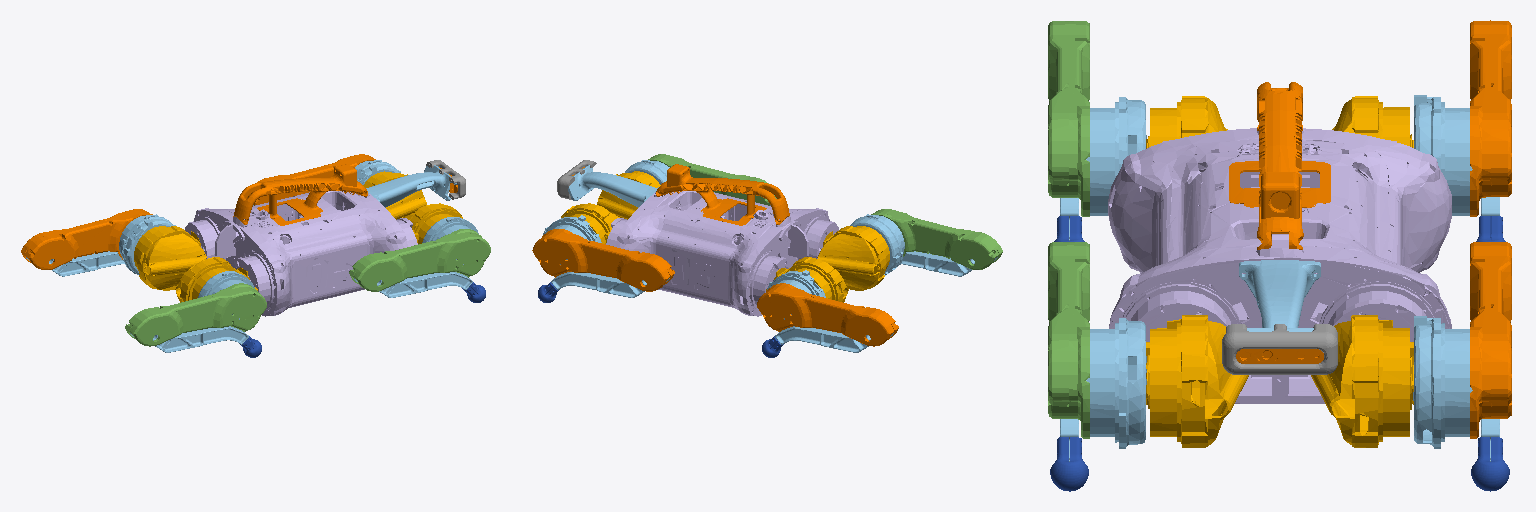
--- Render facts (derived) ---
Views: 3 orthographic renders of the robot side by side, from view 1: azimuth 30°, elevation 25°; view 2: azimuth 150°, elevation 25°; view 3: azimuth 270°, elevation 25°.
Model barkour_vb with 35 links and 34 joints (12 revolute, 22 fixed), rooted at torso_asm_1, posed every joint at zero.
Links seen in each view (by area): view 1: torso_asm_1, upper_leg_right_1, upper_leg_right_2, upper_leg_left_2, abduction_2, lower_leg_3, lower_leg_4, abduction_4, upper_leg_2, upper_leg_left_1, lower_leg_2, abduction_3 (+4 smaller); view 2: torso_asm_1, upper_leg_left_1, upper_leg_left_2, upper_leg_right_2, abduction_4, lower_leg_2, lower_leg_1, abduction_2, upper_leg_4, upper_leg_right_1, lower_leg_4, abduction_1 (+4 smaller); view 3: torso_asm_1, abduction_3, abduction_1, upper_leg_left_1, upper_leg_right_1, upper_leg_right_2, upper_leg_left_2, upper_leg_1, upper_leg_3, upper_leg_2, upper_leg_4, abduction_2 (+5 smaller).
Boxes of the visible links, x1=… form: torso_asm_1: x1=185, y1=160, x2=465, y2=316; upper_leg_right_1: x1=349, y1=229, x2=490, y2=291; upper_leg_right_2: x1=125, y1=283, x2=266, y2=346; upper_leg_left_2: x1=21, y1=209, x2=152, y2=269; abduction_2: x1=134, y1=226, x2=206, y2=290; lower_leg_3: x1=354, y1=272, x2=485, y2=302; lower_leg_4: x1=130, y1=326, x2=261, y2=357; abduction_4: x1=175, y1=257, x2=257, y2=302; upper_leg_2: x1=119, y1=214, x2=175, y2=274; upper_leg_left_1: x1=247, y1=154, x2=375, y2=205; lower_leg_2: x1=26, y1=251, x2=124, y2=276; abduction_3: x1=405, y1=203, x2=462, y2=243; torso_asm_1: x1=557, y1=160, x2=838, y2=316; upper_leg_left_1: x1=532, y1=229, x2=674, y2=291; upper_leg_left_2: x1=757, y1=283, x2=898, y2=346; upper_leg_right_2: x1=871, y1=209, x2=1002, y2=269; abduction_4: x1=817, y1=226, x2=889, y2=290; lower_leg_2: x1=762, y1=326, x2=893, y2=357; lower_leg_1: x1=538, y1=272, x2=669, y2=302; abduction_2: x1=766, y1=257, x2=848, y2=302; upper_leg_4: x1=850, y1=214, x2=904, y2=275; upper_leg_right_1: x1=648, y1=154, x2=776, y2=205; lower_leg_4: x1=901, y1=251, x2=997, y2=276; abduction_1: x1=561, y1=203, x2=619, y2=243; torso_asm_1: x1=1108, y1=82, x2=1451, y2=403; abduction_3: x1=1146, y1=315, x2=1248, y2=447; abduction_1: x1=1311, y1=315, x2=1413, y2=447; upper_leg_left_1: x1=1470, y1=242, x2=1511, y2=438; upper_leg_right_1: x1=1048, y1=242, x2=1089, y2=438; upper_leg_right_2: x1=1048, y1=21, x2=1089, y2=216; upper_leg_left_2: x1=1470, y1=20, x2=1511, y2=216; upper_leg_1: x1=1413, y1=316, x2=1472, y2=448; upper_leg_3: x1=1086, y1=318, x2=1146, y2=448; upper_leg_2: x1=1414, y1=95, x2=1472, y2=215; upper_leg_4: x1=1086, y1=97, x2=1146, y2=215; abduction_2: x1=1332, y1=96, x2=1413, y2=147.
Size in the robot's own frame: 0.798 by 0.4192 by 0.2409 metres.
Meshes: 11 distinct files referenced, 25 mesh visuals loaded (11 binary STL).

robot.urdf — barkour_vb:
<?xml version="1.0"?>
<robot name="barkour_vb">
  <link name="torso_asm_1">
    <inertial>
      <mass value="6.0435187992921655"/>
      <origin xyz="0.005523803494648026 -3.54562665913517e-4 0.008358992027777457" rpy="0 -0 0"/>
      <inertia ixx="0.05125030564288343" ixy="-1.2309385414172502e-4" ixz="-0.0031995036900812944" iyy="0.12027011393337123" iyz="-6.389885553167508e-5" izz="0.1445542994133994"/>
    </inertial>
    <visual name="mesh_visual_torso_asm_1_neck_1">
      <origin xyz="-7.851268126597352e-5 -5.007337028185305e-4 5.551115123125783e-17" rpy="-1.1591837685679553e-25 -7.068193710780266e-27 9.138164726094376e-27"/>
      <geometry>
        <mesh filename="package://assets/neck.stl" scale="1 1 1"/>
      </geometry>
      <material name="material_torso_asm_1_neck_1">
        <color rgba="0.615686274509804 0.8117647058823529 0.9294117647058824 1"/>
      </material>
    </visual>
    <visual name="mesh_visual_torso_asm_1_camera_cover_1">
      <origin xyz="-7.851268126597352e-5 -5.007337028185305e-4 5.551115123125783e-17" rpy="-1.1591837685679553e-25 -7.068193710780266e-27 9.138164726094376e-27"/>
      <geometry>
        <mesh filename="package://assets/camera_cover.stl" scale="1 1 1"/>
      </geometry>
      <material name="material_torso_asm_1_camera_cover_1">
        <color rgba="0.6470588235294118 0.6470588235294118 0.6470588235294118 1"/>
      </material>
    </visual>
    <visual name="mesh_visual_torso_asm_1_handle_1">
      <origin xyz="-7.851268126597352e-5 -5.007337028185305e-4 5.551115123125783e-17" rpy="-1.1591837685679553e-25 -7.068193710780266e-27 9.138164726094376e-27"/>
      <geometry>
        <mesh filename="package://assets/handle.stl" scale="1 1 1"/>
      </geometry>
      <material name="material_torso_asm_1_handle_1">
        <color rgba="0.9725490196078431 0.5294117647058824 0.00392156862745098 1"/>
      </material>
    </visual>
    <visual name="mesh_visual_torso_asm_1_intel_realsense_depth_camera_d435_1">
      <origin xyz="0.3199214873187563 -5.00733702828467e-4 0.06512479372904838" rpy="-7.169167906648349e-27 1.1591837685679884e-25 1.5707963267948966"/>
      <geometry>
        <mesh filename="package://assets/intel_realsense_depth_camera_d435.stl" scale="1 1 1"/>
      </geometry>
      <material name="material_torso_asm_1_intel_realsense_depth_camera_d435_1">
        <color rgba="0.9725490196078431 0.5294117647058824 0.00392156862745098 1"/>
      </material>
    </visual>
    <visual name="mesh_visual_torso_asm_1_torso_1">
      <origin xyz="-7.851268126600128e-5 -5.007337028184195e-4 5.551115123125783e-17" rpy="-1.1591837685679553e-25 -7.068193710780266e-27 9.138164726094376e-27"/>
      <geometry>
        <mesh filename="package://assets/torso.stl" scale="1 1 1"/>
      </geometry>
      <material name="material_torso_asm_1_torso_1">
        <color rgba="0.8 0.7490196078431373 0.9137254901960784 1"/>
      </material>
    </visual>
    <collision name="mesh_collision_torso_asm_1_neck_1">
      <origin xyz="-7.851268126597352e-5 -5.007337028185305e-4 5.551115123125783e-17" rpy="-1.1591837685679553e-25 -7.068193710780266e-27 9.138164726094376e-27"/>
      <geometry>
        <mesh filename="package://assets/neck.stl" scale="1 1 1"/>
      </geometry>
      <material name="material_torso_asm_1_neck_1">
        <color rgba="0.615686274509804 0.8117647058823529 0.9294117647058824 1"/>
      </material>
    </collision>
    <collision name="mesh_collision_torso_asm_1_camera_cover_1">
      <origin xyz="-7.851268126597352e-5 -5.007337028185305e-4 5.551115123125783e-17" rpy="-1.1591837685679553e-25 -7.068193710780266e-27 9.138164726094376e-27"/>
      <geometry>
        <mesh filename="package://assets/camera_cover.stl" scale="1 1 1"/>
      </geometry>
      <material name="material_torso_asm_1_camera_cover_1">
        <color rgba="0.6470588235294118 0.6470588235294118 0.6470588235294118 1"/>
      </material>
    </collision>
    <collision name="mesh_collision_torso_asm_1_handle_1">
      <origin xyz="-7.851268126597352e-5 -5.007337028185305e-4 5.551115123125783e-17" rpy="-1.1591837685679553e-25 -7.068193710780266e-27 9.138164726094376e-27"/>
      <geometry>
        <mesh filename="package://assets/handle.stl" scale="1 1 1"/>
      </geometry>
      <material name="material_torso_asm_1_handle_1">
        <color rgba="0.9725490196078431 0.5294117647058824 0.00392156862745098 1"/>
      </material>
    </collision>
    <collision name="mesh_collision_torso_asm_1_intel_realsense_depth_camera_d435_1">
      <origin xyz="0.3199214873187563 -5.00733702828467e-4 0.06512479372904838" rpy="-7.169167906648349e-27 1.1591837685679884e-25 1.5707963267948966"/>
      <geometry>
        <mesh filename="package://assets/intel_realsense_depth_camera_d435.stl" scale="1 1 1"/>
      </geometry>
      <material name="material_torso_asm_1_intel_realsense_depth_camera_d435_1">
        <color rgba="0.9725490196078431 0.5294117647058824 0.00392156862745098 1"/>
      </material>
    </collision>
    <collision name="mesh_collision_torso_asm_1_torso_1">
      <origin xyz="-7.851268126600128e-5 -5.007337028184195e-4 5.551115123125783e-17" rpy="-1.1591837685679553e-25 -7.068193710780266e-27 9.138164726094376e-27"/>
      <geometry>
        <mesh filename="package://assets/torso.stl" scale="1 1 1"/>
      </geometry>
      <material name="material_torso_asm_1_torso_1">
        <color rgba="0.8 0.7490196078431373 0.9137254901960784 1"/>
      </material>
    </collision>
  </link>
  <joint name="abduction_front_left" type="revolute">
    <origin xyz="0.171671487318734 0.08924926629717829 -9.80000000315705e-6" rpy="-1.570796326794818 -3.399112597086179e-27 1.5707963267949399"/>
    <axis xyz="2.672703018845418e-40 0 1"/>
    <parent link="torso_asm_1"/>
    <child link="abduction_1"/>
    <limit lower="-1.0471975511965976" upper="1.0471975511965976" effort="1e+9" velocity="1e+9"/>
  </joint>
  <link name="abduction_1">
    <inertial>
      <mass value="0.7870000000000004"/>
      <origin xyz="0.005477257952806026 -2.880342934476473e-4 -0.06021907612587555" rpy="0 -0 0"/>
      <inertia ixx="0.0014379326033092518" ixy="-1.9263529901593276e-6" ixz="1.258009598205964e-5" iyy="0.001170167935614302" iyz="3.463780265707665e-6" izz="0.0010005419149179914"/>
    </inertial>
    <visual name="mesh_visual_abduction_1_abduction_1">
      <origin xyz="5.83993472149866e-18 1.1137316600633152e-4 0.002900000000000005" rpy="1.5707963267948966 -3.78951442209809e-16 0"/>
      <geometry>
        <mesh filename="package://assets/abduction.stl" scale="1 1 1"/>
      </geometry>
      <material name="material_abduction_1_abduction_1">
        <color rgba="0.9803921568627451 0.7137254901960784 0.00392156862745098 1"/>
      </material>
    </visual>
    <collision name="mesh_collision_abduction_1_abduction_1">
      <origin xyz="5.83993472149866e-18 1.1137316600633152e-4 0.002900000000000005" rpy="1.5707963267948966 -3.78951442209809e-16 0"/>
      <geometry>
        <mesh filename="package://assets/abduction.stl" scale="1 1 1"/>
      </geometry>
      <material name="material_abduction_1_abduction_1">
        <color rgba="0.9803921568627451 0.7137254901960784 0.00392156862745098 1"/>
      </material>
    </collision>
  </link>
  <joint name="abduction_hind_left" type="revolute">
    <origin xyz="-0.17182851268126573 0.08924926629718143 -9.799999998367492e-6" rpy="-1.5707963267948988 -5.775159592936519e-29 1.570796326794869"/>
    <axis xyz="-1.2098169819453001e-43 0 1"/>
    <parent link="torso_asm_1"/>
    <child link="abduction_2"/>
    <limit lower="-1.0471975511965976" upper="1.0471975511965976" effort="1e+9" velocity="1e+9"/>
  </joint>
  <link name="abduction_2">
    <inertial>
      <mass value="0.7870000000000004"/>
      <origin xyz="0.005477257952806026 2.880342934476473e-4 0.06021907612587555" rpy="0 -0 0"/>
      <inertia ixx="0.0014379326033092518" ixy="1.9263529901593276e-6" ixz="-1.258009598205964e-5" iyy="0.001170167935614302" iyz="3.463780265707665e-6" izz="0.0010005419149179914"/>
    </inertial>
    <visual name="mesh_visual_abduction_2_abduction_2">
      <origin xyz="5.83993472149866e-18 -1.1137316600633152e-4 -0.002900000000000005" rpy="-1.5707963267948968 3.78951442209809e-16 0"/>
      <geometry>
        <mesh filename="package://assets/abduction.stl" scale="1 1 1"/>
      </geometry>
      <material name="material_abduction_2_abduction_2">
        <color rgba="0.9803921568627451 0.7137254901960784 0.00392156862745098 1"/>
      </material>
    </visual>
    <collision name="mesh_collision_abduction_2_abduction_2">
      <origin xyz="5.83993472149866e-18 -1.1137316600633152e-4 -0.002900000000000005" rpy="-1.5707963267948968 3.78951442209809e-16 0"/>
      <geometry>
        <mesh filename="package://assets/abduction.stl" scale="1 1 1"/>
      </geometry>
      <material name="material_abduction_2_abduction_2">
        <color rgba="0.9803921568627451 0.7137254901960784 0.00392156862745098 1"/>
      </material>
    </collision>
  </link>
  <joint name="abduction_front_right" type="revolute">
    <origin xyz="0.17167148731873405 -0.09075073370281865 -9.79999999449241e-6" rpy="-1.5707963267948195 3.522303502572385e-27 -1.5707963267949423"/>
    <axis xyz="-2.71461045742394e-40 0 1"/>
    <parent link="torso_asm_1"/>
    <child link="abduction_3"/>
    <limit lower="-1.0471975511965976" upper="1.0471975511965976" effort="1e+9" velocity="1e+9"/>
  </joint>
  <link name="abduction_3">
    <inertial>
      <mass value="0.7870000000000004"/>
      <origin xyz="0.005477257952806026 2.880342934476473e-4 0.06021907612587555" rpy="0 -0 0"/>
      <inertia ixx="0.0014379326033092518" ixy="1.9263529901593276e-6" ixz="-1.258009598205964e-5" iyy="0.001170167935614302" iyz="3.463780265707665e-6" izz="0.0010005419149179914"/>
    </inertial>
    <visual name="mesh_visual_abduction_3_abduction_3">
      <origin xyz="5.83993472149866e-18 -1.1137316600633152e-4 -0.002900000000000005" rpy="-1.5707963267948968 3.78951442209809e-16 0"/>
      <geometry>
        <mesh filename="package://assets/abduction.stl" scale="1 1 1"/>
      </geometry>
      <material name="material_abduction_3_abduction_3">
        <color rgba="0.9803921568627451 0.7137254901960784 0.00392156862745098 1"/>
      </material>
    </visual>
    <collision name="mesh_collision_abduction_3_abduction_3">
      <origin xyz="5.83993472149866e-18 -1.1137316600633152e-4 -0.002900000000000005" rpy="-1.5707963267948968 3.78951442209809e-16 0"/>
      <geometry>
        <mesh filename="package://assets/abduction.stl" scale="1 1 1"/>
      </geometry>
      <material name="material_abduction_3_abduction_3">
        <color rgba="0.9803921568627451 0.7137254901960784 0.00392156862745098 1"/>
      </material>
    </collision>
  </link>
  <joint name="abduction_hind_right" type="revolute">
    <origin xyz="-0.17182851268126592 -0.09075073370281862 -9.800000003691252e-6" rpy="-1.5707963267948255 -2.639992626226621e-27 -1.5707963267948595"/>
    <axis xyz="1.8745546754473815e-40 0 1"/>
    <parent link="torso_asm_1"/>
    <child link="abduction_4"/>
    <limit lower="-1.0471975511965976" upper="1.0471975511965976" effort="1e+9" velocity="1e+9"/>
  </joint>
  <link name="abduction_4">
    <inertial>
      <mass value="0.7870000000000004"/>
      <origin xyz="0.005477257952806026 -2.880342934476473e-4 -0.06001907612587555" rpy="0 -0 0"/>
      <inertia ixx="0.0014379326033092518" ixy="-1.9263529901593276e-6" ixz="1.258009598205964e-5" iyy="0.0011701679356143023" iyz="3.463780265707665e-6" izz="0.0010005419149179914"/>
    </inertial>
    <visual name="mesh_visual_abduction_4_abduction_4">
      <origin xyz="5.764144433056697e-18 1.1137316600633152e-4 0.0031000000000000073" rpy="1.5707963267948966 -3.78951442209809e-16 0"/>
      <geometry>
        <mesh filename="package://assets/abduction.stl" scale="1 1 1"/>
      </geometry>
      <material name="material_abduction_4_abduction_4">
        <color rgba="0.9803921568627451 0.7137254901960784 0.00392156862745098 1"/>
      </material>
    </visual>
    <collision name="mesh_collision_abduction_4_abduction_4">
      <origin xyz="5.764144433056697e-18 1.1137316600633152e-4 0.0031000000000000073" rpy="1.5707963267948966 -3.78951442209809e-16 0"/>
      <geometry>
        <mesh filename="package://assets/abduction.stl" scale="1 1 1"/>
      </geometry>
      <material name="material_abduction_4_abduction_4">
        <color rgba="0.9803921568627451 0.7137254901960784 0.00392156862745098 1"/>
      </material>
    </collision>
  </link>
  <joint name="hip_hind_right" type="revolute">
    <origin xyz="0.030849999999999947 -9.934002405398434e-18 -0.06480000000000001" rpy="0 -1.5707963267948966 3.141592653589791"/>
    <axis xyz="0 2.3352054777656043e-31 1"/>
    <parent link="abduction_4"/>
    <child link="upper_leg_4"/>
    <limit lower="-1.5470598489677738" upper="3.029018916836159" effort="1e+9" velocity="1e+9"/>
  </joint>
  <link name="upper_leg_4">
    <inertial>
      <mass value="0.825"/>
      <origin xyz="-2.6386651911913805e-4 -5.445989762948878e-4 0.035395424597901" rpy="0 -0 0"/>
      <inertia ixx="8.52398289651261e-4" ixy="2.4616395855082435e-7" ixz="-4.6651751688711196e-6" iyy="8.405258907741872e-4" iyz="-6.967907262754442e-6" izz="0.0013010489365589857"/>
    </inertial>
    <visual name="mesh_visual_upper_leg_4_upper_leg_4">
      <origin xyz="0.06789999999999927 -1.1137316600626203e-4 -0.030850000000000394" rpy="0 -1.5707963267948966 -1.5707963267948966"/>
      <geometry>
        <mesh filename="package://assets/upper_leg.stl" scale="1 1 1"/>
      </geometry>
      <material name="material_upper_leg_4_upper_leg_4">
        <color rgba="0.615686274509804 0.8117647058823529 0.9294117647058824 1"/>
      </material>
    </visual>
    <collision name="mesh_collision_upper_leg_4_upper_leg_4">
      <origin xyz="0.06789999999999927 -1.1137316600626203e-4 -0.030850000000000394" rpy="0 -1.5707963267948966 -1.5707963267948966"/>
      <geometry>
        <mesh filename="package://assets/upper_leg.stl" scale="1 1 1"/>
      </geometry>
      <material name="material_upper_leg_4_upper_leg_4">
        <color rgba="0.615686274509804 0.8117647058823529 0.9294117647058824 1"/>
      </material>
    </collision>
  </link>
  <joint name="hind_right_upper_leg_fixed_joint" type="fixed">
    <origin xyz="6.106226635438361e-16 -7.137031850928954e-16 0.05345000000000068" rpy="3.141592653589756 -3.5623460654715196e-14 -3.141592653589793"/>
    <parent link="upper_leg_4"/>
    <child link="upper_leg_right_2"/>
  </joint>
  <link name="upper_leg_right_2">
    <inertial>
      <mass value="0.3299999999999993"/>
      <origin xyz="0.08382799919114345 0.012721325959740851 -0.016623921851364253" rpy="0 -0 0"/>
      <inertia ixx="2.3860417928824114e-4" ixy="-1.216354606968332e-4" ixz="3.7481873671363786e-6" iyy="0.0023930713505869285" iyz="7.275442766044627e-6" izz="0.0025236642422561927"/>
    </inertial>
    <visual name="mesh_visual_upper_leg_right_2_upper_leg_right_2">
      <origin xyz="-3.278627369596165e-16 3.43475248243408e-16 0.0027" rpy="0 -0 0"/>
      <geometry>
        <mesh filename="package://assets/upper_leg_right.stl" scale="1 1 1"/>
      </geometry>
      <material name="material_upper_leg_right_2_upper_leg_right_2">
        <color rgba="0.5137254901960784 0.7372549019607844 0.40784313725490196 1"/>
      </material>
    </visual>
    <collision name="mesh_collision_upper_leg_right_2_upper_leg_right_2">
      <origin xyz="-3.278627369596165e-16 3.43475248243408e-16 0.0027" rpy="0 -0 0"/>
      <geometry>
        <mesh filename="package://assets/upper_leg_right.stl" scale="1 1 1"/>
      </geometry>
      <material name="material_upper_leg_right_2_upper_leg_right_2">
        <color rgba="0.5137254901960784 0.7372549019607844 0.40784313725490196 1"/>
      </material>
    </collision>
  </link>
  <joint name="knee_hind_right" type="revolute">
    <origin xyz="0.18999999999999967 3.439038746231096e-16 -0.016125" rpy="0 -0 0"/>
    <axis xyz="0 0 1"/>
    <parent link="upper_leg_right_2"/>
    <child link="lower_leg_4"/>
    <limit lower="0" upper="2.443460952792061" effort="1e+9" velocity="1e+9"/>
  </joint>
  <link name="lower_leg_4">
    <inertial>
      <mass value="0.17123781480870356"/>
      <origin xyz="-0.08954932795302636 -0.030195681911853636 -3.020816199673174e-8" rpy="0 -0 0"/>
      <inertia ixx="1.3758856610050898e-4" ixy="-3.613463998914471e-4" ixz="-1.7085639729527853e-10" iyy="0.0012504281176954784" iyz="-1.2166564380831712e-10" izz="0.0013740618472343744"/>
    </inertial>
    <visual name="mesh_visual_lower_leg_4_lower_leg_1">
      <origin xyz="-0.06498382723187707 0.17854159794932262 0" rpy="0 -0 -1.2217304763960306"/>
      <geometry>
        <mesh filename="package://assets/lower_leg.stl" scale="1 1 1"/>
      </geometry>
      <material name="material_lower_leg_4_lower_leg_1">
        <color rgba="0.615686274509804 0.8117647058823529 0.9294117647058824 1"/>
      </material>
    </visual>
    <visual name="mesh_visual_lower_leg_4_foot_1">
      <origin xyz="-0.06498382723187707 0.17854159794932262 0" rpy="0 -0 -1.2217304763960306"/>
      <geometry>
        <mesh filename="package://assets/foot.stl" scale="1 1 1"/>
      </geometry>
      <material name="material_lower_leg_4_foot_1">
        <color rgba="0.23137254901960785 0.3803921568627451 0.7058823529411765 1"/>
      </material>
    </visual>
    <collision name="mesh_collision_lower_leg_4_lower_leg_1">
      <origin xyz="-0.06498382723187707 0.17854159794932262 0" rpy="0 -0 -1.2217304763960306"/>
      <geometry>
        <mesh filename="package://assets/lower_leg.stl" scale="1 1 1"/>
      </geometry>
      <material name="material_lower_leg_4_lower_leg_1">
        <color rgba="0.615686274509804 0.8117647058823529 0.9294117647058824 1"/>
      </material>
    </collision>
    <collision name="mesh_collision_lower_leg_4_foot_1">
      <origin xyz="-0.06498382723187707 0.17854159794932262 0" rpy="0 -0 -1.2217304763960306"/>
      <geometry>
        <mesh filename="package://assets/foot.stl" scale="1 1 1"/>
      </geometry>
      <material name="material_lower_leg_4_foot_1">
        <color rgba="0.23137254901960785 0.3803921568627451 0.7058823529411765 1"/>
      </material>
    </collision>
  </link>
  <joint name="hip_front_right" type="revolute">
    <origin xyz="0.030849999999999947 9.934002405398434e-18 0.06500000000000002" rpy="0 -1.5707963267948966 -3.141592653589791"/>
    <axis xyz="0 -2.3352054777656043e-31 1"/>
    <parent link="abduction_3"/>
    <child link="upper_leg_3"/>
    <limit lower="-1.5470598489677738" upper="3.029018916836159" effort="1e+9" velocity="1e+9"/>
  </joint>
  <link name="upper_leg_3">
    <inertial>
      <mass value="0.825"/>
      <origin xyz="-2.6386651911913805e-4 -5.445989762948878e-4 0.035395424597901" rpy="0 -0 0"/>
      <inertia ixx="8.52398289651261e-4" ixy="2.4616395855082435e-7" ixz="-4.6651751688711196e-6" iyy="8.405258907741872e-4" iyz="-6.967907262754442e-6" izz="0.0013010489365589857"/>
    </inertial>
    <visual name="mesh_visual_upper_leg_3_upper_leg_3">
      <origin xyz="0.06789999999999927 -1.1137316600626203e-4 -0.030850000000000394" rpy="0 -1.5707963267948966 -1.5707963267948966"/>
      <geometry>
        <mesh filename="package://assets/upper_leg.stl" scale="1 1 1"/>
      </geometry>
      <material name="material_upper_leg_3_upper_leg_3">
        <color rgba="0.615686274509804 0.8117647058823529 0.9294117647058824 1"/>
      </material>
    </visual>
    <collision name="mesh_collision_upper_leg_3_upper_leg_3">
      <origin xyz="0.06789999999999927 -1.1137316600626203e-4 -0.030850000000000394" rpy="0 -1.5707963267948966 -1.5707963267948966"/>
      <geometry>
        <mesh filename="package://assets/upper_leg.stl" scale="1 1 1"/>
      </geometry>
      <material name="material_upper_leg_3_upper_leg_3">
        <color rgba="0.615686274509804 0.8117647058823529 0.9294117647058824 1"/>
      </material>
    </collision>
  </link>
  <joint name="front_right_upper_leg_fixed_joint" type="fixed">
    <origin xyz="6.106226635438361e-16 -7.137031850928954e-16 0.05345000000000068" rpy="3.141592653589756 -3.5623460654715196e-14 -3.141592653589793"/>
    <parent link="upper_leg_3"/>
    <child link="upper_leg_right_1"/>
  </joint>
  <link name="upper_leg_right_1">
    <inertial>
      <mass value="0.3299999999999993"/>
      <origin xyz="0.08382799919114343 0.012721325959740168 -0.016623921851364253" rpy="0 -0 0"/>
      <inertia ixx="2.3860417928824108e-4" ixy="-1.216354606968332e-4" ixz="3.7481873671363244e-6" iyy="0.002393071350586927" iyz="7.275442766044613e-6" izz="0.0025236642422561927"/>
    </inertial>
    <visual name="mesh_visual_upper_leg_right_1_upper_leg_right_1">
      <origin xyz="-3.5214886562329204e-16 -3.41740524767431e-16 0.0027" rpy="0 -0 0"/>
      <geometry>
        <mesh filename="package://assets/upper_leg_right.stl" scale="1 1 1"/>
      </geometry>
      <material name="material_upper_leg_right_1_upper_leg_right_1">
        <color rgba="0.5137254901960784 0.7372549019607844 0.40784313725490196 1"/>
      </material>
    </visual>
    <collision name="mesh_collision_upper_leg_right_1_upper_leg_right_1">
      <origin xyz="-3.5214886562329204e-16 -3.41740524767431e-16 0.0027" rpy="0 -0 0"/>
      <geometry>
        <mesh filename="package://assets/upper_leg_right.stl" scale="1 1 1"/>
      </geometry>
      <material name="material_upper_leg_right_1_upper_leg_right_1">
        <color rgba="0.5137254901960784 0.7372549019607844 0.40784313725490196 1"/>
      </material>
    </collision>
  </link>
  <joint name="knee_front_right" type="revolute">
    <origin xyz="0.18999999999999964 -3.413118983877294e-16 -0.016125" rpy="0 -0 0"/>
    <axis xyz="0 0 1"/>
    <parent link="upper_leg_right_1"/>
    <child link="lower_leg_3"/>
    <limit lower="0" upper="2.443460952792061" effort="1e+9" velocity="1e+9"/>
  </joint>
  <link name="lower_leg_3">
    <inertial>
      <mass value="0.17123781480870356"/>
      <origin xyz="-0.08954932795302636 -0.030195681911853636 -3.020816199673174e-8" rpy="0 -0 0"/>
      <inertia ixx="1.3758856610050898e-4" ixy="-3.613463998914471e-4" ixz="-1.7085639729527853e-10" iyy="0.0012504281176954784" iyz="-1.2166564380831712e-10" izz="0.0013740618472343744"/>
    </inertial>
    <visual name="mesh_visual_lower_leg_3_foot_1">
      <origin xyz="-0.06498382723187707 0.17854159794932262 0" rpy="0 -0 -1.2217304763960306"/>
      <geometry>
        <mesh filename="package://assets/foot.stl" scale="1 1 1"/>
      </geometry>
      <material name="material_lower_leg_3_foot_1">
        <color rgba="0.23137254901960785 0.3803921568627451 0.7058823529411765 1"/>
      </material>
    </visual>
    <visual name="mesh_visual_lower_leg_3_lower_leg_1">
      <origin xyz="-0.06498382723187707 0.17854159794932262 0" rpy="0 -0 -1.2217304763960306"/>
      <geometry>
        <mesh filename="package://assets/lower_leg.stl" scale="1 1 1"/>
      </geometry>
      <material name="material_lower_leg_3_lower_leg_1">
        <color rgba="0.615686274509804 0.8117647058823529 0.9294117647058824 1"/>
      </material>
    </visual>
    <collision name="mesh_collision_lower_leg_3_foot_1">
      <origin xyz="-0.06498382723187707 0.17854159794932262 0" rpy="0 -0 -1.2217304763960306"/>
      <geometry>
        <mesh filename="package://assets/foot.stl" scale="1 1 1"/>
      </geometry>
      <material name="material_lower_leg_3_foot_1">
        <color rgba="0.23137254901960785 0.3803921568627451 0.7058823529411765 1"/>
      </material>
    </collision>
    <collision name="mesh_collision_lower_leg_3_lower_leg_1">
      <origin xyz="-0.06498382723187707 0.17854159794932262 0" rpy="0 -0 -1.2217304763960306"/>
      <geometry>
        <mesh filename="package://assets/lower_leg.stl" scale="1 1 1"/>
      </geometry>
      <material name="material_lower_leg_3_lower_leg_1">
        <color rgba="0.615686274509804 0.8117647058823529 0.9294117647058824 1"/>
      </material>
    </collision>
  </link>
  <joint name="hip_hind_left" type="revolute">
    <origin xyz="0.030849999999999947 9.934002405398434e-18 0.06500000000000002" rpy="0 1.5707963267948966 -3.141592653589791"/>
    <axis xyz="0 2.3352054777656043e-31 1"/>
    <parent link="abduction_2"/>
    <child link="upper_leg_2"/>
    <limit lower="-1.5470598489677738" upper="3.029018916836159" effort="1e+9" velocity="1e+9"/>
  </joint>
  <link name="upper_leg_2">
    <inertial>
      <mass value="0.825"/>
      <origin xyz="-2.6386651911913805e-4 5.445989762948878e-4 -0.035395424597900994" rpy="0 -0 0"/>
      <inertia ixx="8.52398289651261e-4" ixy="-2.4616395855082435e-7" ixz="4.665175168871121e-6" iyy="8.40525890774187e-4" iyz="-6.967907262754442e-6" izz="0.0013010489365589857"/>
    </inertial>
    <visual name="mesh_visual_upper_leg_2_upper_leg_2">
      <origin xyz="0.06789999999999927 1.1137316600626203e-4 0.030850000000000398" rpy="0 1.5707963267948966 -1.5707963267948966"/>
      <geometry>
        <mesh filename="package://assets/upper_leg.stl" scale="1 1 1"/>
      </geometry>
      <material name="material_upper_leg_2_upper_leg_2">
        <color rgba="0.615686274509804 0.8117647058823529 0.9294117647058824 1"/>
      </material>
    </visual>
    <collision name="mesh_collision_upper_leg_2_upper_leg_2">
      <origin xyz="0.06789999999999927 1.1137316600626203e-4 0.030850000000000398" rpy="0 1.5707963267948966 -1.5707963267948966"/>
      <geometry>
        <mesh filename="package://assets/upper_leg.stl" scale="1 1 1"/>
      </geometry>
      <material name="material_upper_leg_2_upper_leg_2">
        <color rgba="0.615686274509804 0.8117647058823529 0.9294117647058824 1"/>
      </material>
    </collision>
  </link>
  <joint name="hind_left_upper_leg_fixed_joint" type="fixed">
    <origin xyz="6.106226635438361e-16 7.137031850928954e-16 -0.05345000000000067" rpy="-3.7453189364967224e-14 3.5623460654715196e-14 3.141592653589793"/>
    <parent link="upper_leg_2"/>
    <child link="upper_leg_left_2"/>
  </joint>
  <link name="upper_leg_left_2">
    <inertial>
      <mass value="0.33000000000000085"/>
      <origin xyz="0.08382914304820145 -0.012723520393110832 -0.016624685691380245" rpy="0 -0 0"/>
      <inertia ixx="2.3866809459552823e-4" ixy="1.2155436586242527e-4" ixz="3.757565033927644e-6" iyy="0.0023929926074393966" iyz="-7.2716334781216895e-6" izz="0.002523649755617038"/>
    </inertial>
    <visual name="mesh_visual_upper_leg_left_2_upper_leg_left_2">
      <origin xyz="3.3480163086352397e-16 -3.5214886562329204e-16 0.0027" rpy="3.141592653589793 -0 0"/>
      <geometry>
        <mesh filename="package://assets/upper_leg_left.stl" scale="1 1 1"/>
      </geometry>
      <material name="material_upper_leg_left_2_upper_leg_left_2">
        <color rgba="0.9725490196078431 0.5294117647058824 0.00392156862745098 1"/>
      </material>
    </visual>
    <collision name="mesh_collision_upper_leg_left_2_upper_leg_left_2">
      <origin xyz="3.3480163086352397e-16 -3.5214886562329204e-16 0.0027" rpy="3.141592653589793 -0 0"/>
      <geometry>
        <mesh filename="package://assets/upper_leg_left.stl" scale="1 1 1"/>
      </geometry>
      <material name="material_upper_leg_left_2_upper_leg_left_2">
        <color rgba="0.9725490196078431 0.5294117647058824 0.00392156862745098 1"/>
      </material>
    </collision>
  </link>
  <joint name="knee_hind_left" type="revolute">
    <origin xyz="0.19000000000000034 -3.5257749200299363e-16 -0.016474999999999997" rpy="3.141592653589793 -0 0"/>
    <axis xyz="0 0 1"/>
    <parent link="upper_leg_left_2"/>
    <child link="lower_leg_2"/>
    <limit lower="0" upper="2.443460952792061" effort="1e+9" velocity="1e+9"/>
  </joint>
  <link name="lower_leg_2">
    <inertial>
      <mass value="0.17123781480870356"/>
      <origin xyz="-0.08954932795302636 -0.030195681911853636 -3.020816199673174e-8" rpy="0 -0 0"/>
      <inertia ixx="1.3758856610050898e-4" ixy="-3.613463998914471e-4" ixz="-1.7085639729527853e-10" iyy="0.0012504281176954784" iyz="-1.2166564380831712e-10" izz="0.0013740618472343744"/>
    </inertial>
    <visual name="mesh_visual_lower_leg_2_lower_leg_1">
      <origin xyz="-0.06498382723187707 0.17854159794932262 0" rpy="0 -0 -1.2217304763960306"/>
      <geometry>
        <mesh filename="package://assets/lower_leg.stl" scale="1 1 1"/>
      </geometry>
      <material name="material_lower_leg_2_lower_leg_1">
        <color rgba="0.615686274509804 0.8117647058823529 0.9294117647058824 1"/>
      </material>
    </visual>
    <visual name="mesh_visual_lower_leg_2_foot_1">
      <origin xyz="-0.06498382723187707 0.17854159794932262 0" rpy="0 -0 -1.2217304763960306"/>
      <geometry>
        <mesh filename="package://assets/foot.stl" scale="1 1 1"/>
      </geometry>
      <material name="material_lower_leg_2_foot_1">
        <color rgba="0.23137254901960785 0.3803921568627451 0.7058823529411765 1"/>
      </material>
    </visual>
    <collision name="mesh_collision_lower_leg_2_lower_leg_1">
      <origin xyz="-0.06498382723187707 0.17854159794932262 0" rpy="0 -0 -1.2217304763960306"/>
      <geometry>
        <mesh filename="package://assets/lower_leg.stl" scale="1 1 1"/>
      </geometry>
      <material name="material_lower_leg_2_lower_leg_1">
        <color rgba="0.615686274509804 0.8117647058823529 0.9294117647058824 1"/>
      </material>
    </collision>
    <collision name="mesh_collision_lower_leg_2_foot_1">
      <origin xyz="-0.06498382723187707 0.17854159794932262 0" rpy="0 -0 -1.2217304763960306"/>
      <geometry>
        <mesh filename="package://assets/foot.stl" scale="1 1 1"/>
      </geometry>
      <material name="material_lower_leg_2_foot_1">
        <color rgba="0.23137254901960785 0.3803921568627451 0.7058823529411765 1"/>
      </material>
    </collision>
  </link>
  <joint name="hip_front_left" type="revolute">
    <origin xyz="0.030849999999999947 -9.934002405398434e-18 -0.06500000000000002" rpy="0 1.5707963267948966 3.141592653589791"/>
    <axis xyz="0 -2.3352054777656043e-31 1"/>
    <parent link="abduction_1"/>
    <child link="upper_leg_1"/>
    <limit lower="-1.5470598489677738" upper="3.029018916836159" effort="1e+9" velocity="1e+9"/>
  </joint>
  <link name="upper_leg_1">
    <inertial>
      <mass value="0.825"/>
      <origin xyz="-2.6386651911913805e-4 5.445989762948878e-4 -0.035395424597900994" rpy="0 -0 0"/>
      <inertia ixx="8.52398289651261e-4" ixy="-2.4616395855082435e-7" ixz="4.665175168871121e-6" iyy="8.40525890774187e-4" iyz="-6.967907262754442e-6" izz="0.0013010489365589857"/>
    </inertial>
    <visual name="mesh_visual_upper_leg_1_upper_leg_1">
      <origin xyz="0.06789999999999927 1.1137316600626203e-4 0.030850000000000398" rpy="0 1.5707963267948966 -1.5707963267948966"/>
      <geometry>
        <mesh filename="package://assets/upper_leg.stl" scale="1 1 1"/>
      </geometry>
      <material name="material_upper_leg_1_upper_leg_1">
        <color rgba="0.615686274509804 0.8117647058823529 0.9294117647058824 1"/>
      </material>
    </visual>
    <collision name="mesh_collision_upper_leg_1_upper_leg_1">
      <origin xyz="0.06789999999999927 1.1137316600626203e-4 0.030850000000000398" rpy="0 1.5707963267948966 -1.5707963267948966"/>
      <geometry>
        <mesh filename="package://assets/upper_leg.stl" scale="1 1 1"/>
      </geometry>
      <material name="material_upper_leg_1_upper_leg_1">
        <color rgba="0.615686274509804 0.8117647058823529 0.9294117647058824 1"/>
      </material>
    </collision>
  </link>
  <joint name="front_left_upper_leg_fixed_joint" type="fixed">
    <origin xyz="6.106226635438361e-16 7.137031850928954e-16 -0.05345000000000067" rpy="-3.7453189364967224e-14 3.5623460654715196e-14 3.141592653589793"/>
    <parent link="upper_leg_1"/>
    <child link="upper_leg_left_1"/>
  </joint>
  <link name="upper_leg_left_1">
    <inertial>
      <mass value="0.33000000000000085"/>
      <origin xyz="0.08382914304820145 -0.012723520393110832 -0.016624685691380245" rpy="0 -0 0"/>
      <inertia ixx="2.3866809459552823e-4" ixy="1.2155436586242527e-4" ixz="3.757565033927644e-6" iyy="0.0023929926074393966" iyz="-7.2716334781216895e-6" izz="0.002523649755617038"/>
    </inertial>
    <visual name="mesh_visual_upper_leg_left_1_upper_leg_left_1">
      <origin xyz="3.3480163086352397e-16 -3.5214886562329204e-16 0.0027" rpy="3.141592653589793 -0 0"/>
      <geometry>
        <mesh filename="package://assets/upper_leg_left.stl" scale="1 1 1"/>
      </geometry>
      <material name="material_upper_leg_left_1_upper_leg_left_1">
        <color rgba="0.9725490196078431 0.5294117647058824 0.00392156862745098 1"/>
      </material>
    </visual>
    <collision name="mesh_collision_upper_leg_left_1_upper_leg_left_1">
      <origin xyz="3.3480163086352397e-16 -3.5214886562329204e-16 0.0027" rpy="3.141592653589793 -0 0"/>
      <geometry>
        <mesh filename="package://assets/upper_leg_left.stl" scale="1 1 1"/>
      </geometry>
      <material name="material_upper_leg_left_1_upper_leg_left_1">
        <color rgba="0.9725490196078431 0.5294117647058824 0.00392156862745098 1"/>
      </material>
    </collision>
  </link>
  <joint name="knee_front_left" type="revolute">
    <origin xyz="0.19000000000000034 -3.5257749200299363e-16 -0.016125" rpy="3.141592653589793 -0 0"/>
    <axis xyz="0 0 1"/>
    <parent link="upper_leg_left_1"/>
    <child link="lower_leg_1"/>
    <limit lower="0" upper="2.443460952792061" effort="1e+9" velocity="1e+9"/>
  </joint>
  <link name="lower_leg_1">
    <inertial>
      <mass value="0.17123781480870356"/>
      <origin xyz="-0.08954932795302636 -0.030195681911853636 -3.020816199673174e-8" rpy="0 -0 0"/>
      <inertia ixx="1.3758856610050898e-4" ixy="-3.613463998914471e-4" ixz="-1.7085639729527853e-10" iyy="0.0012504281176954784" iyz="-1.2166564380831712e-10" izz="0.0013740618472343744"/>
    </inertial>
    <visual name="mesh_visual_lower_leg_1_foot_1">
      <origin xyz="-0.06498382723187707 0.17854159794932262 0" rpy="0 -0 -1.2217304763960306"/>
      <geometry>
        <mesh filename="package://assets/foot.stl" scale="1 1 1"/>
      </geometry>
      <material name="material_lower_leg_1_foot_1">
        <color rgba="0.23137254901960785 0.3803921568627451 0.7058823529411765 1"/>
      </material>
    </visual>
    <visual name="mesh_visual_lower_leg_1_lower_leg_1">
      <origin xyz="-0.06498382723187707 0.17854159794932262 0" rpy="0 -0 -1.2217304763960306"/>
      <geometry>
        <mesh filename="package://assets/lower_leg.stl" scale="1 1 1"/>
      </geometry>
      <material name="material_lower_leg_1_lower_leg_1">
        <color rgba="0.615686274509804 0.8117647058823529 0.9294117647058824 1"/>
      </material>
    </visual>
    <collision name="mesh_collision_lower_leg_1_foot_1">
      <origin xyz="-0.06498382723187707 0.17854159794932262 0" rpy="0 -0 -1.2217304763960306"/>
      <geometry>
        <mesh filename="package://assets/foot.stl" scale="1 1 1"/>
      </geometry>
      <material name="material_lower_leg_1_foot_1">
        <color rgba="0.23137254901960785 0.3803921568627451 0.7058823529411765 1"/>
      </material>
    </collision>
    <collision name="mesh_collision_lower_leg_1_lower_leg_1">
      <origin xyz="-0.06498382723187707 0.17854159794932262 0" rpy="0 -0 -1.2217304763960306"/>
      <geometry>
        <mesh filename="package://assets/lower_leg.stl" scale="1 1 1"/>
      </geometry>
      <material name="material_lower_leg_1_lower_leg_1">
        <color rgba="0.615686274509804 0.8117647058823529 0.9294117647058824 1"/>
      </material>
    </collision>
  </link>
  <link name="imu_frame"/>
  <joint name="imu_frame_fixed_joint" type="fixed">
    <origin xyz="0.010715 -0.00025 -0.060000000000000005" rpy="0 -0 3.141592653589793"/>
    <parent link="torso_asm_1"/>
    <child link="imu_frame"/>
  </joint>
  <link name="base_frame"/>
  <joint name="base_frame_fixed_joint" type="fixed">
    <origin xyz="0 0 0" rpy="0 -0 0"/>
    <parent link="torso_asm_1"/>
    <child link="base_frame"/>
  </joint>
  <link name="vicon_frame"/>
  <joint name="vicon_frame_fixed_joint" type="fixed">
    <origin xyz="0 0 0" rpy="0 -0 0"/>
    <parent link="torso_asm_1"/>
    <child link="vicon_frame"/>
  </joint>
  <link name="head_camera_frame"/>
  <joint name="head_camera_frame_fixed_joint" type="fixed">
    <origin xyz="0.3176 0.017 0.065" rpy="-1.5707963267948968 -0 -1.5707963267948966"/>
    <parent link="torso_asm_1"/>
    <child link="head_camera_frame"/>
  </joint>
  <link name="handle_camera_frame"/>
  <joint name="handle_camera_frame_fixed_joint" type="fixed">
    <origin xyz="0.08632 0 0.12130000000000002" rpy="-1.5707963267948966 -0 -1.5707963267948966"/>
    <parent link="torso_asm_1"/>
    <child link="handle_camera_frame"/>
  </joint>
  <link name="foot_front_left"/>
  <joint name="foot_front_left_fixed_joint" type="fixed">
    <origin xyz="-0.2142499175391871 -0.07798059267825252 0" rpy="1.5707963267948966 -0 -0.6981317007977274"/>
    <parent link="lower_leg_1"/>
    <child link="foot_front_left"/>
  </joint>
  <link name="foot_hind_left"/>
  <joint name="foot_hind_left_fixed_joint" type="fixed">
    <origin xyz="-0.2142499175391871 -0.07798059267825252 0" rpy="1.5707963267948966 -0 -0.6981317007977274"/>
    <parent link="lower_leg_2"/>
    <child link="foot_hind_left"/>
  </joint>
  <link name="foot_front_right"/>
  <joint name="foot_front_right_fixed_joint" type="fixed">
    <origin xyz="-0.2142499175391871 -0.07798059267825252 0" rpy="1.5707963267948966 -0 -0.6981317007977274"/>
    <parent link="lower_leg_3"/>
    <child link="foot_front_right"/>
  </joint>
  <link name="foot_hind_right"/>
  <joint name="foot_hind_right_fixed_joint" type="fixed">
    <origin xyz="-0.2142499175391871 -0.07798059267825252 0" rpy="1.5707963267948966 -0 -0.6981317007977274"/>
    <parent link="lower_leg_4"/>
    <child link="foot_hind_right"/>
  </joint>
  <link name="vicon_0"/>
  <joint name="vicon_0_fixed_joint" type="fixed">
    <origin xyz="-0.110864 -0.117663 0.06173600000000001" rpy="0 -0 0"/>
    <parent link="torso_asm_1"/>
    <child link="vicon_0"/>
  </joint>
  <link name="vicon_1"/>
  <joint name="vicon_1_fixed_joint" type="fixed">
    <origin xyz="-0.11086397162174805 0.11666158305348172 0.061736334671828284" rpy="-0.44616454242534054 0.28775262365143545 -0.1349252661420002"/>
    <parent link="torso_asm_1"/>
    <child link="vicon_1"/>
  </joint>
  <link name="vicon_2"/>
  <joint name="vicon_2_fixed_joint" type="fixed">
    <origin xyz="-0.06257435272789177 0.11067959100429141 0.04581394356253389" rpy="-0.8995379524293106 -1.726318633044941e-17 2.173371517884319e-17"/>
    <parent link="torso_asm_1"/>
    <child link="vicon_2"/>
  </joint>
  <link name="vicon_3"/>
  <joint name="vicon_3_fixed_joint" type="fixed">
    <origin xyz="0.056171487318734045 0.10004168241738749 0.05273939551019303" rpy="-0.29338255303143024 2.6569611700883698e-17 -8.026687474865261e-18"/>
    <parent link="torso_asm_1"/>
    <child link="vicon_3"/>
  </joint>
  <link name="vicon_4"/>
  <joint name="vicon_4_fixed_joint" type="fixed">
    <origin xyz="0.09607041683195405 0.12969731718554708 0.03897324888141357" rpy="-1.2894866763746446 -0.26582137638808234 0.7378138017435335"/>
    <parent link="torso_asm_1"/>
    <child link="vicon_4"/>
  </joint>
  <link name="vicon_5"/>
  <joint name="vicon_5_fixed_joint" type="fixed">
    <origin xyz="-0.09623272680660265 0.13162963620635834 -0.03885941947525901" rpy="-1.8283573842880605 -0.24417217639409064 -0.7425501801995231"/>
    <parent link="torso_asm_1"/>
    <child link="vicon_5"/>
  </joint>
  <link name="vicon_6"/>
  <joint name="vicon_6_fixed_joint" type="fixed">
    <origin xyz="-7.851268126593551e-5 -0.07786255693226492 0.07035700359743703" rpy="0.6789450150998522 -2.1600378515202505e-17 -1.7429733955366978e-17"/>
    <parent link="torso_asm_1"/>
    <child link="vicon_6"/>
  </joint>
  <link name="vicon_8"/>
  <joint name="vicon_8_fixed_joint" type="fixed">
    <origin xyz="-0.09622744219448613 -0.13069878459118428 0.03897324888141333" rpy="1.289486676374684 0.26582137638804976 0.737813801743547"/>
    <parent link="torso_asm_1"/>
    <child link="vicon_8"/>
  </joint>
  <link name="vicon_9"/>
  <joint name="vicon_9_fixed_joint" type="fixed">
    <origin xyz="0.056171487318734045 -0.10104314982302455 0.05273939551019303" rpy="0.29338255303143024 2.6569611700883698e-17 8.026687474865261e-18"/>
    <parent link="torso_asm_1"/>
    <child link="vicon_9"/>
  </joint>
</robot>
